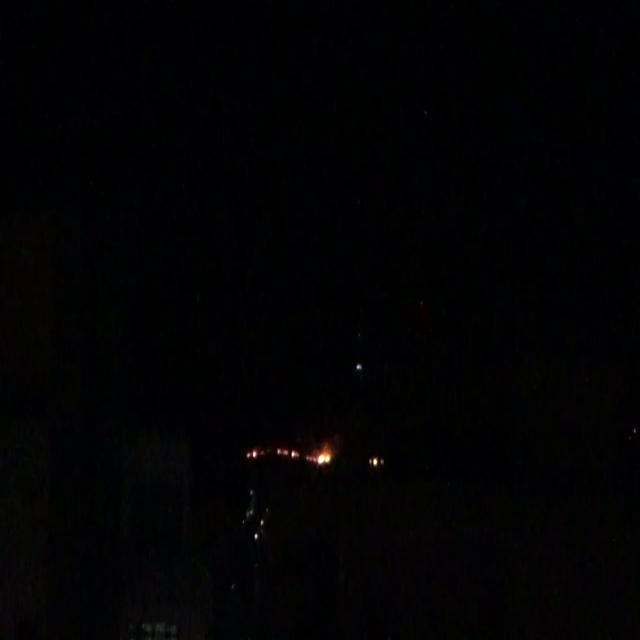Fire: (308, 445, 332, 467), (278, 446, 296, 461)
